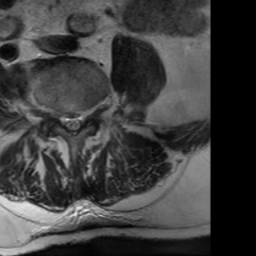CCS_severe_stenosis: (69, 104, 76, 141)
LFS_normal: (83, 98, 93, 132)
LLS_normal: (76, 103, 84, 136)
RFS_normal: (51, 99, 59, 127)
RLS_normal: (59, 104, 69, 134)
